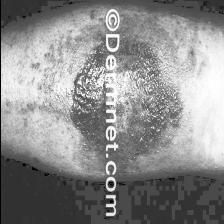Toxin: (36, 17, 201, 172)
